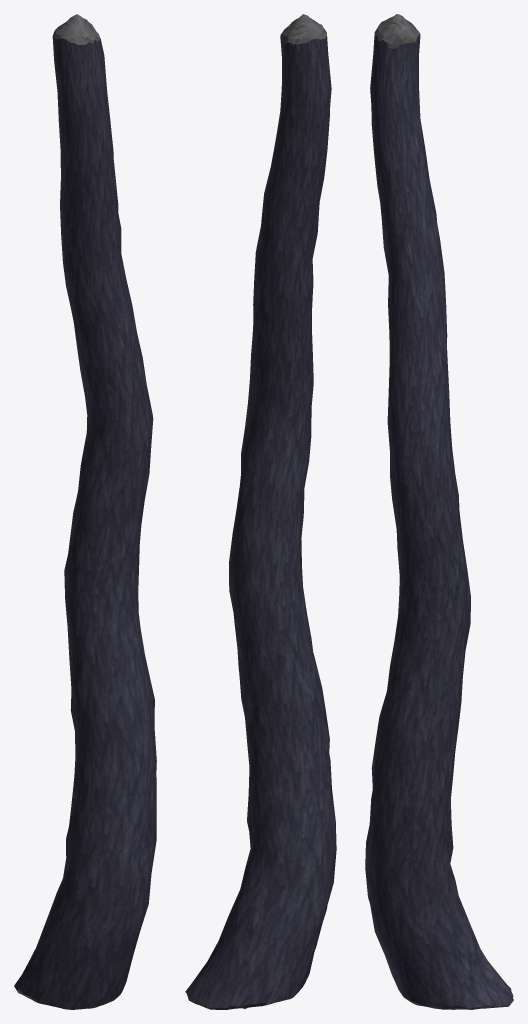
3 views of the same model, side by side, from view 1: azimuth 90°, elevation 25°; view 2: azimuth 150°, elevation 25°; view 3: azimuth 330°, elevation 25° (orthographic). The views are drawn at different scales.
Visible parts, largest first — view 1: SM_Willow_03_full_LOD0; view 2: SM_Willow_03_full_LOD0; view 3: SM_Willow_03_full_LOD0.
Part boxes in pixels (x1,y1,x2,y2): SM_Willow_03_full_LOD0: [14, 14, 156, 1009]; SM_Willow_03_full_LOD0: [185, 14, 336, 1009]; SM_Willow_03_full_LOD0: [365, 14, 513, 1009].
Bounding box in the file's own units: 1.33 × 10.03 × 1.27.
1 material, 1 textured.
